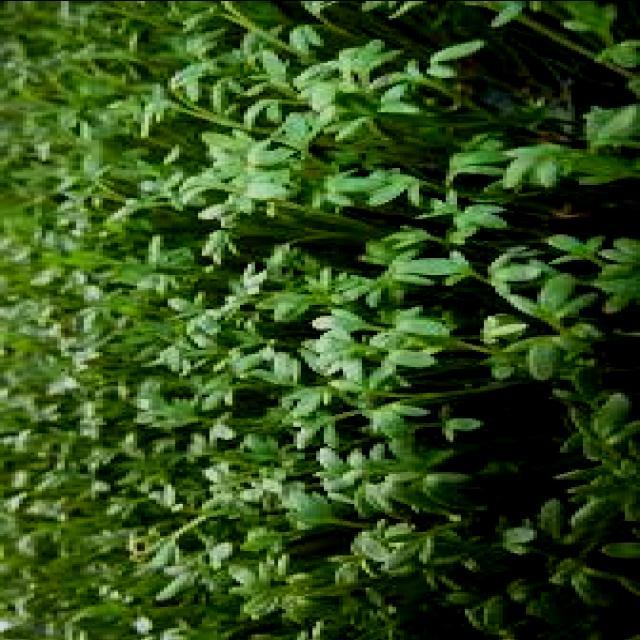Garden Cress: (48, 29, 603, 532)
